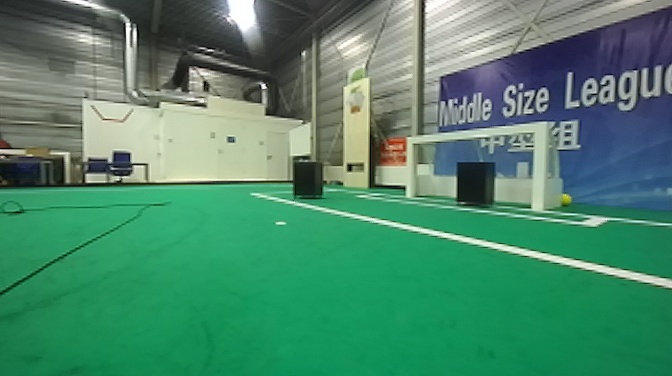ball: (555, 187, 576, 205)
goalpost: (531, 121, 546, 210), (404, 135, 417, 197)
